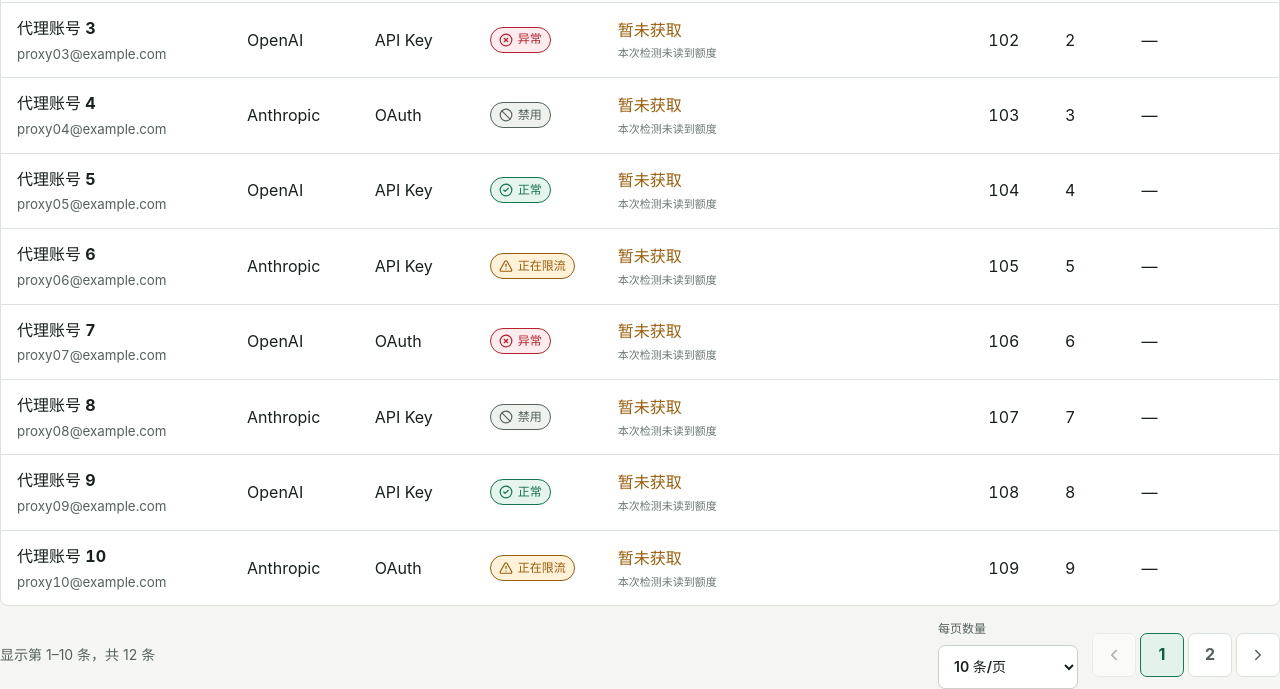
Test: CLIProxyAPI 账号筛选与分页 › 支持账号搜索和十条一页的分页
This screenshot has width=1280, height=689.
(page scrolled)
Expected: the text "显示第 1–10 条，共 12 条" is shown, [0, 646, 155, 663]
Click the button named "第 2 页". click: (1210, 655)
box: [1188, 633, 1232, 677]
(page scrolled)
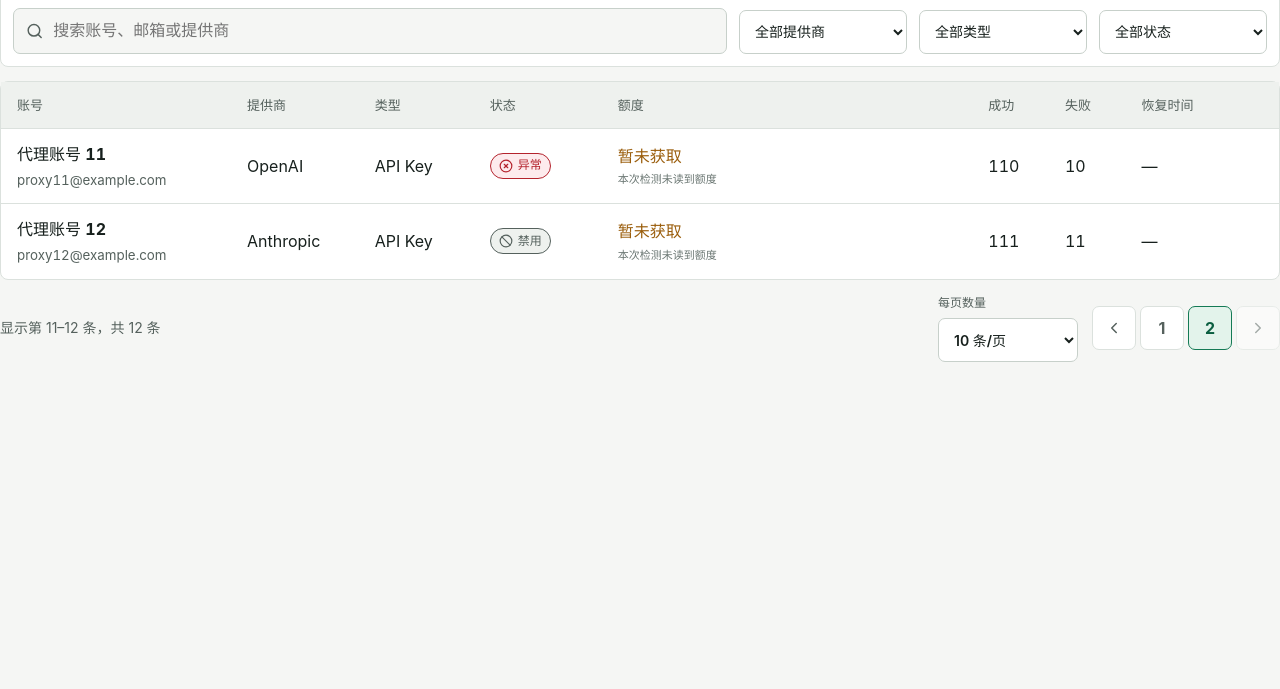
Expected: the text "代理账号 12" is shown, [17, 219, 106, 239]
Type "proxy04" into the search field named "搜索 CLIProxyAPI 账号". click: (389, 31)
box: [51, 9, 726, 53]
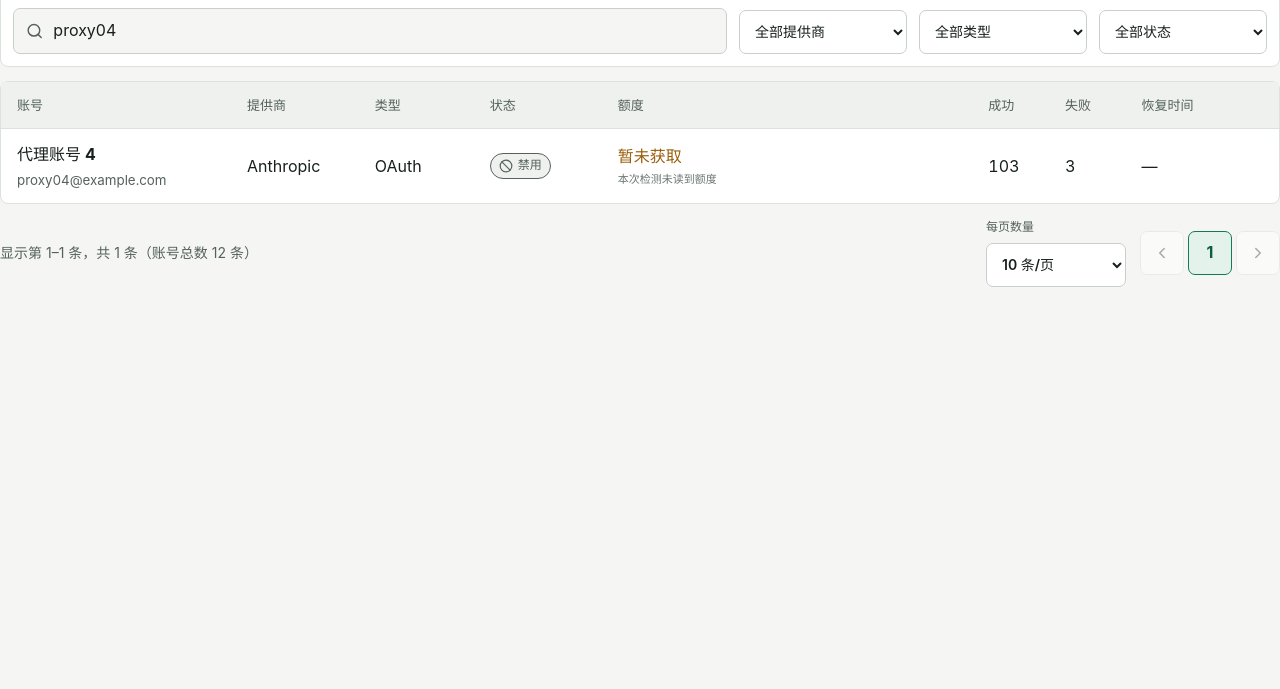
Expected: the text "显示第 1–1 条，共 1 条" is shown, [0, 244, 258, 261]
Expected: the text "代理账号 4" is shown, [17, 144, 96, 164]
